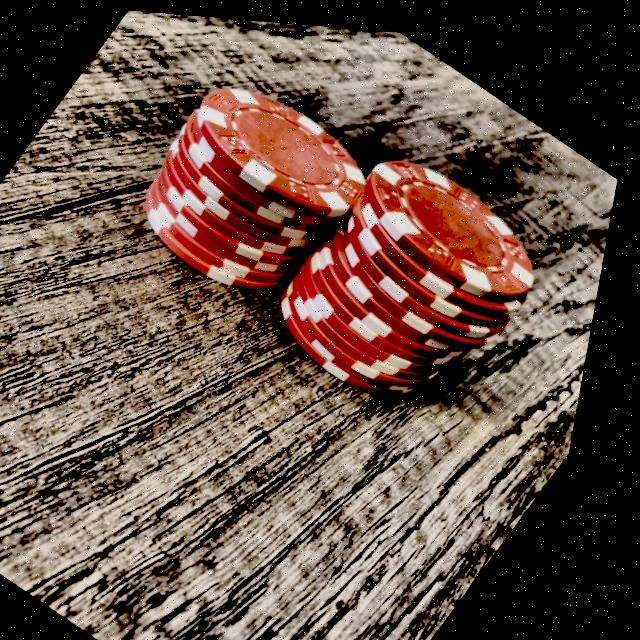Chip: (251, 122, 588, 439), (108, 51, 400, 320)
